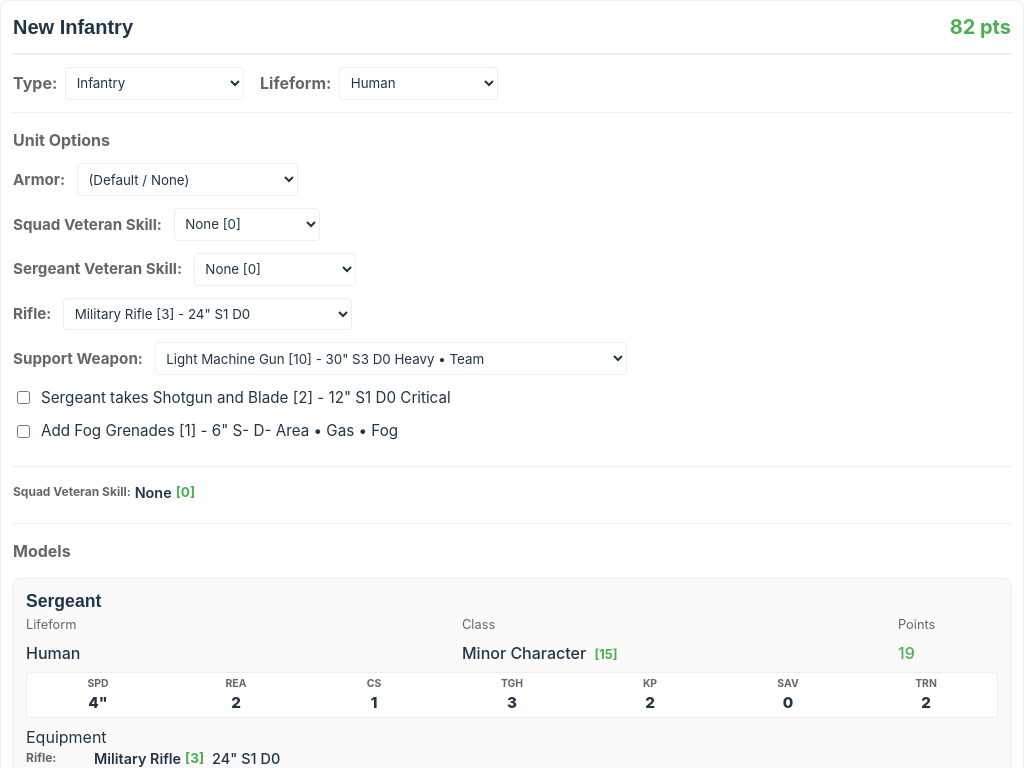
Scenario: UnitEditor Component › toggles unit option
Click the checkbox labelled "Add Fog Grenades [1] - 6\" S- D- Area • Gas • Fog".
click(24, 431)  # box x1=17 y1=424 x2=30 y2=438
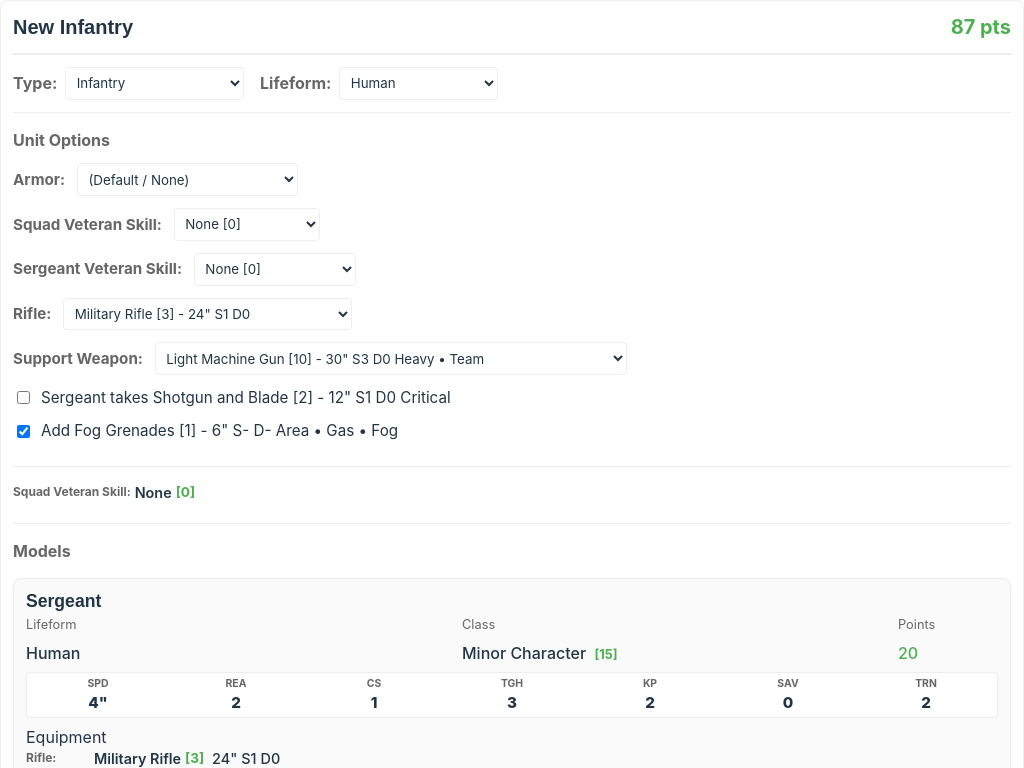
Expected: the text with class "unit-points" reads "87 pts", x1=951 y1=15 x2=1011 y2=39
